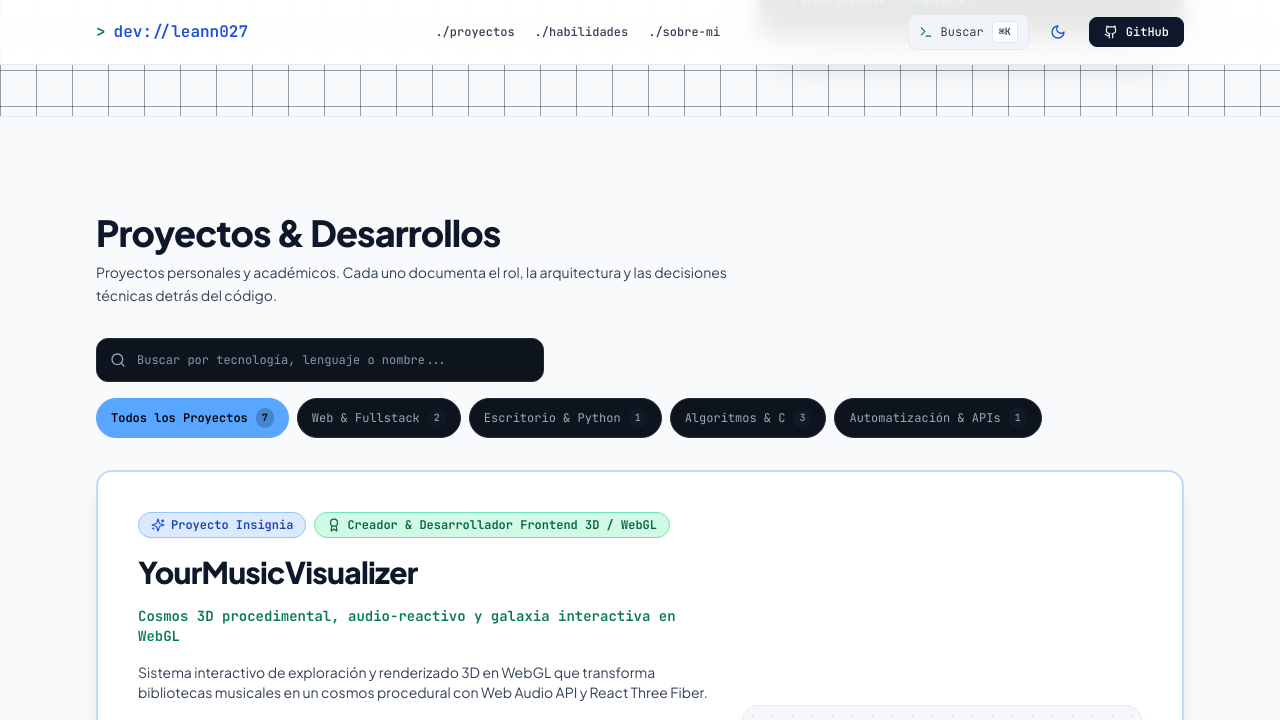
Test: Interactive Portfolio UI (Pure Visualization) › allows live filtering by search query and shows empty state on unmatched query
(page scrolled)
# Type "Python"
In the field with placeholder "Buscar por tecnología, lenguaje o nombre...": point(320, 360) [96, 338, 544, 382], type "Python"
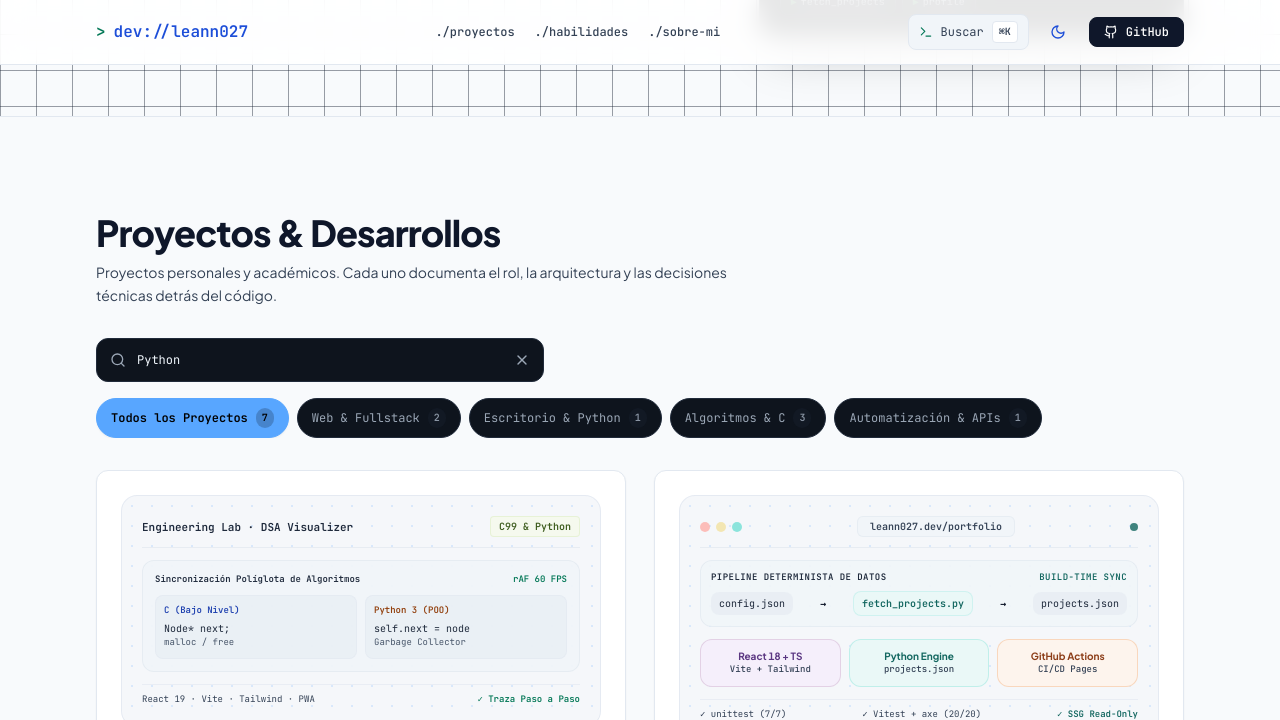
# Type non-existent query
Replace the text in the field with placeholder "Buscar por tecnología, lenguaje o nombre..." with "NonExistentFramework999": point(320, 360) [96, 338, 544, 382]
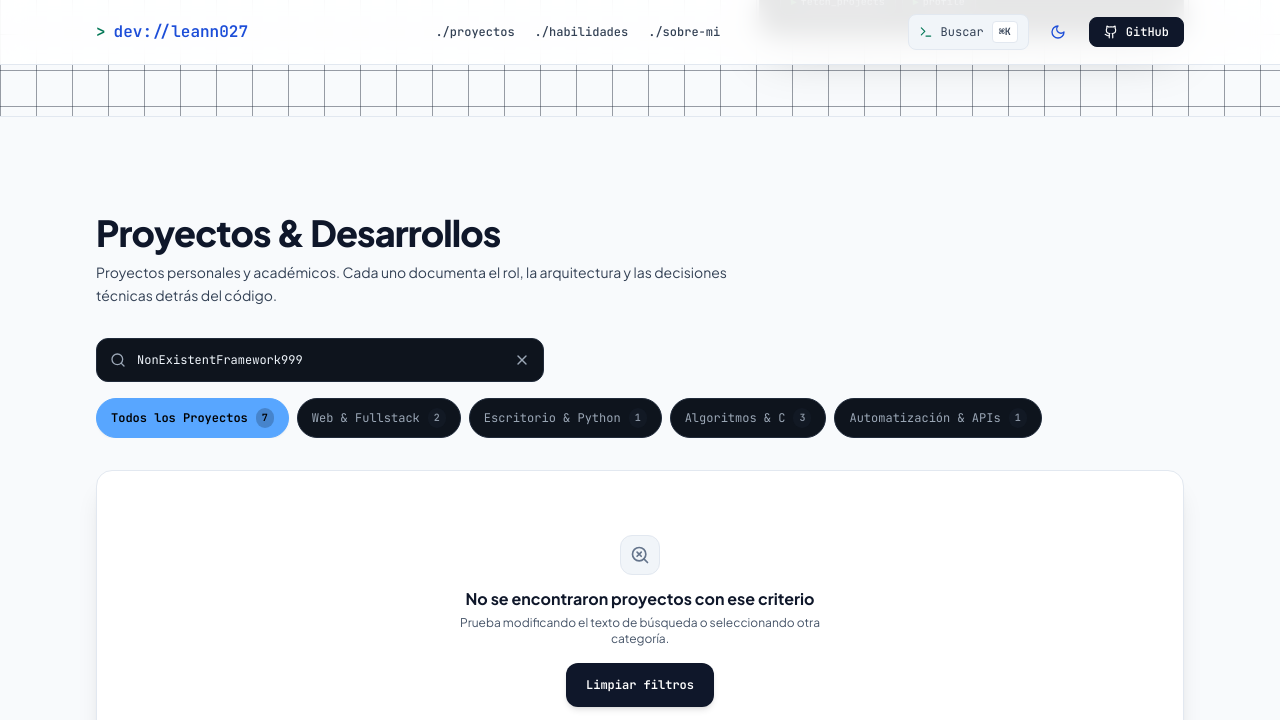
Expected: the heading "No se encontraron proyectos con ese criterio" is shown, [466, 588, 814, 609]
